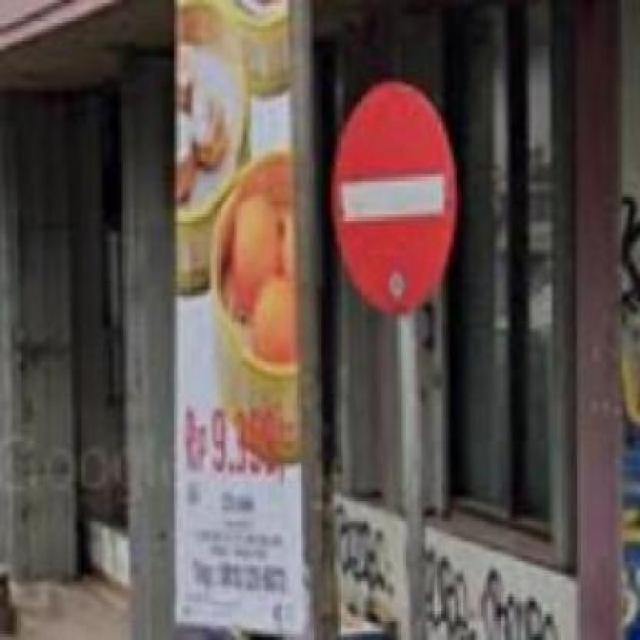no entry: (327, 83, 459, 308)
